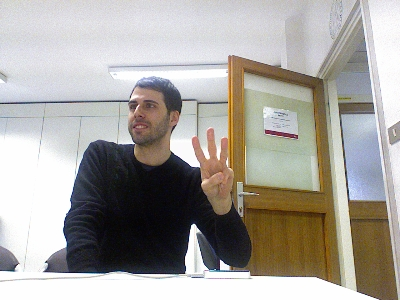三分: (190, 125, 235, 202)
